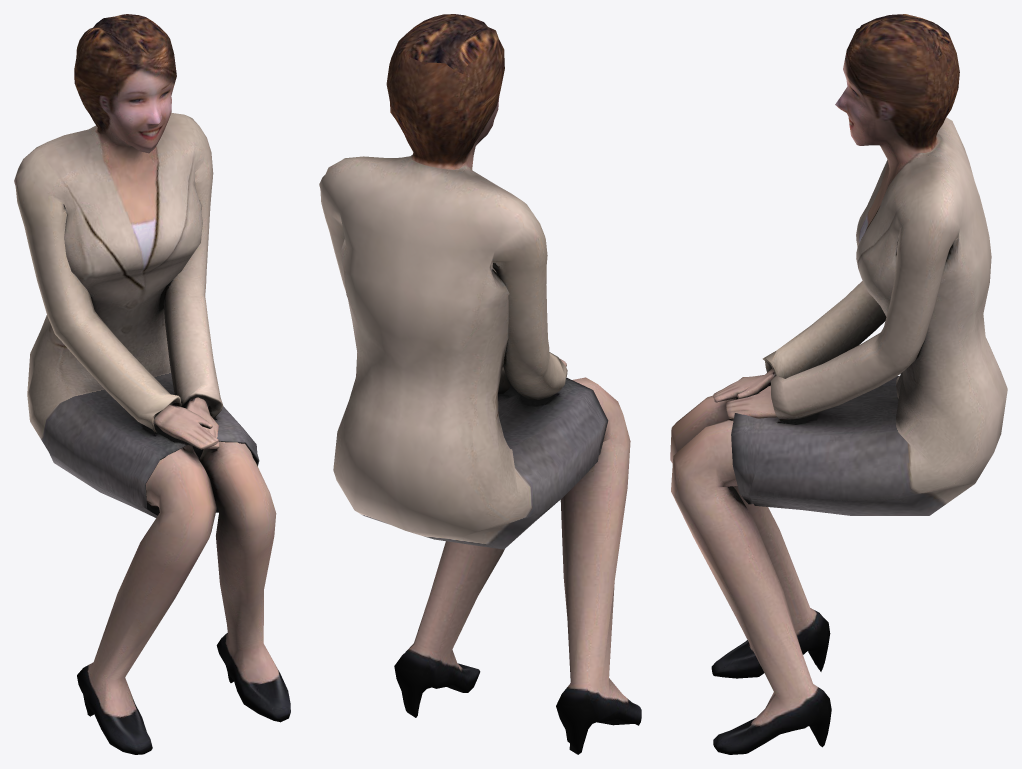
File: GirlSitter2.FBX
3 views of the same model, side by side, from view 1: azimuth 30°, elevation 25°; view 2: azimuth 150°, elevation 25°; view 3: azimuth 270°, elevation 25° (orthographic). The views are drawn at different scales.
Parts seen in each view (by area): view 1: SBP_20_02; view 2: SBP_20_02; view 3: SBP_20_02.
Part boxes in pixels (x1=…): SBP_20_02: x1=14, y1=14, x2=290, y2=754; SBP_20_02: x1=319, y1=14, x2=641, y2=754; SBP_20_02: x1=670, y1=14, x2=1007, y2=754.
Bounding box in the file's own units: 15.18 × 49.69 × 21.9.
1 material, 1 textured.
